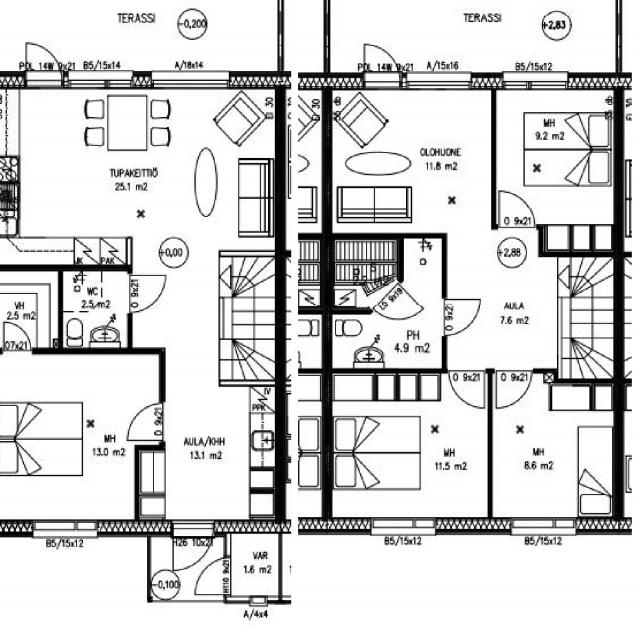door: (369, 280, 424, 336), (172, 522, 213, 578), (25, 36, 60, 88), (364, 38, 399, 88), (128, 276, 170, 316), (123, 404, 165, 440), (499, 187, 534, 229), (440, 299, 480, 335), (497, 368, 532, 409), (192, 558, 232, 593), (450, 368, 484, 409), (3, 318, 31, 356)
